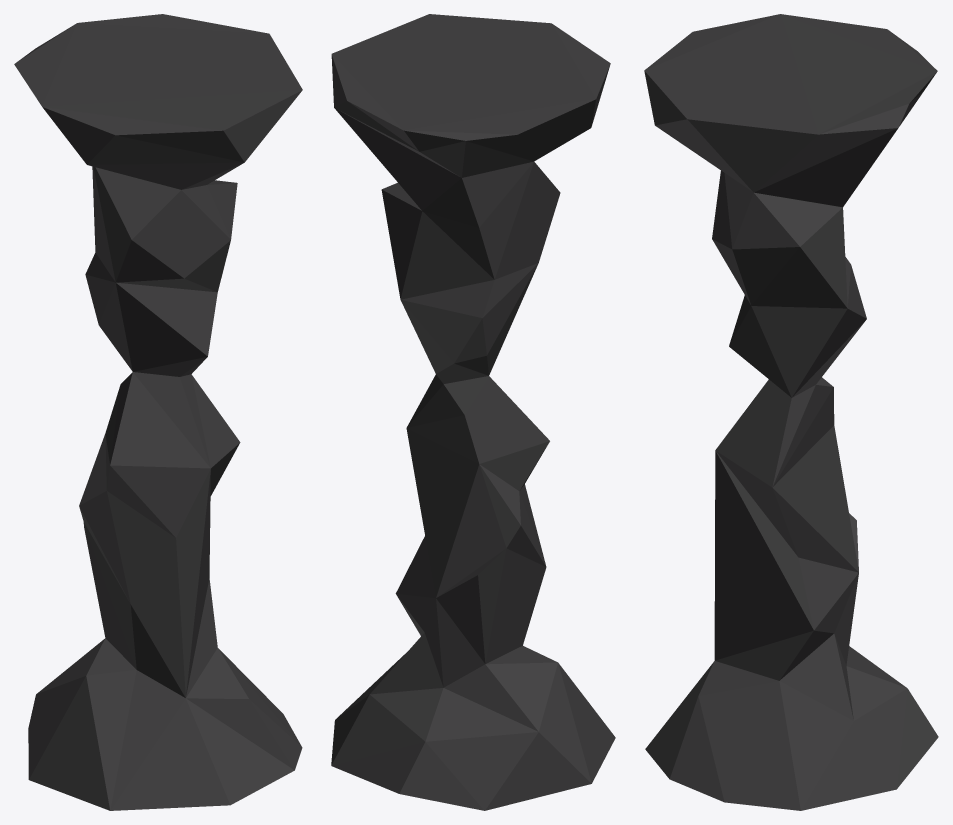
The model's file is Stal_4_LOD.fbx.
3 renders of one model, left to right at view 1: azimuth 30°, elevation 25°; view 2: azimuth 150°, elevation 25°; view 3: azimuth 270°, elevation 25°, orthographic.
Parts seen in each view (by area): view 1: polySurface1070; view 2: polySurface1070; view 3: polySurface1070.
Part boxes in pixels (left/top/right/bottom): polySurface1070: left=14, top=14, right=302, bottom=810; polySurface1070: left=331, top=14, right=615, bottom=810; polySurface1070: left=644, top=14, right=938, bottom=810.
Size of the model in its own units: 4.22 by 10.71 by 4.21.
